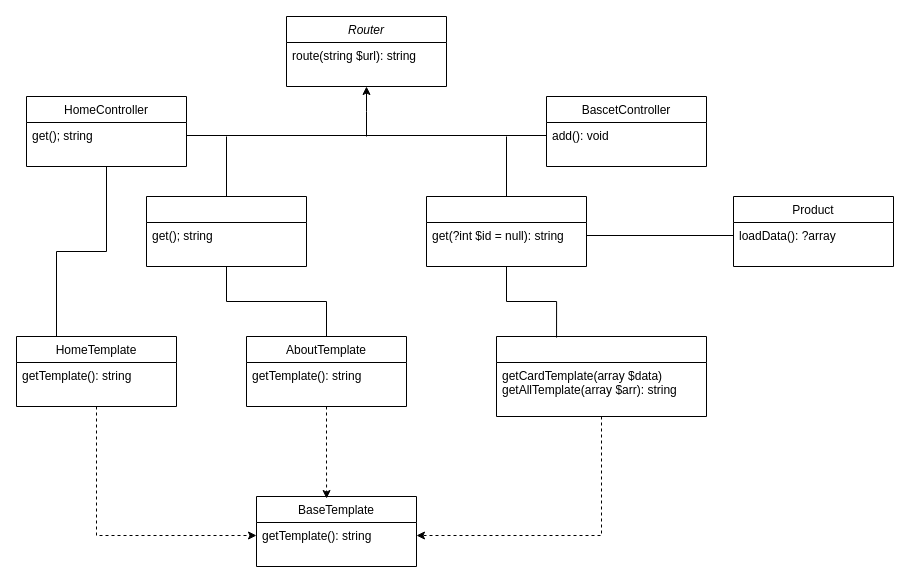
This 910x583 diagram has some shape labels left out. Each missing label, with the box of its shape:
AboutController: (146, 196, 306, 266)
ProductController: (426, 196, 586, 266)
ProductTemplate: (496, 336, 706, 416)
